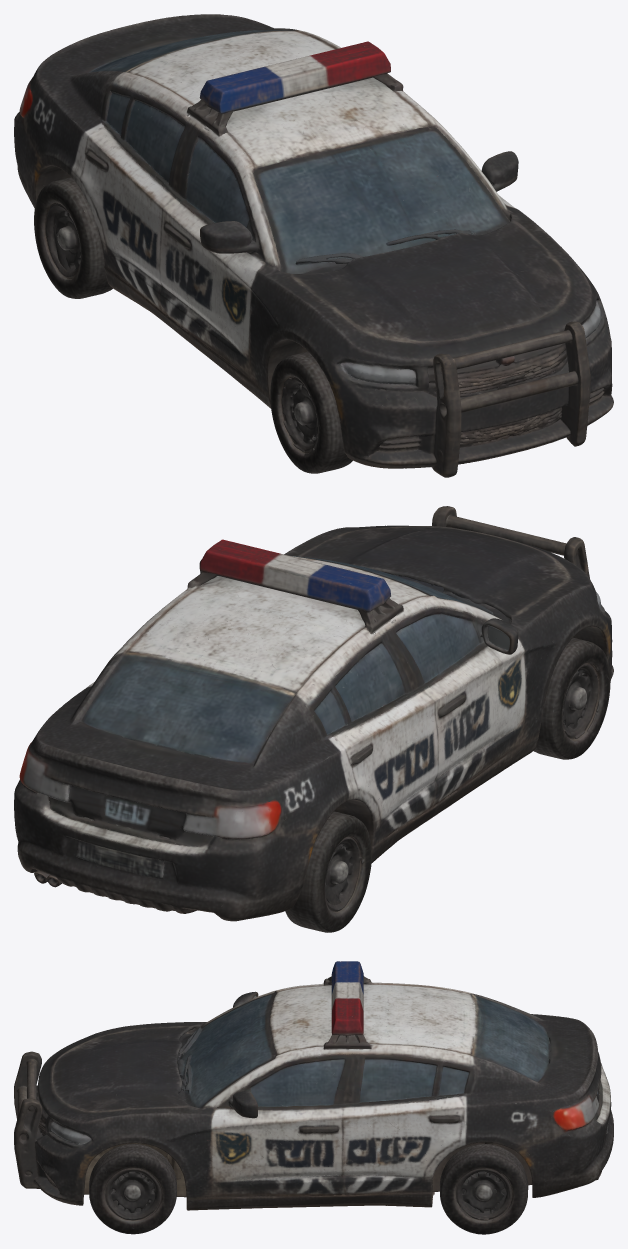
The model's file is Police.glb.
The picture shows the model from 3 angles, top to bottom: view 1: azimuth 30°, elevation 25°; view 2: azimuth 150°, elevation 25°; view 3: azimuth 270°, elevation 25°; orthographic projection. The views are drawn at different scales.
Visible parts, largest first — view 1: world; view 2: world; view 3: world.
Part boxes in pixels (bbox=[...]): world: bbox=[14, 14, 613, 477]; world: bbox=[14, 506, 613, 932]; world: bbox=[14, 961, 613, 1234].
Size of the model in its own units: 0.4466 by 0.3594 by 1.
Materials: 1 (1 with a texture image).
